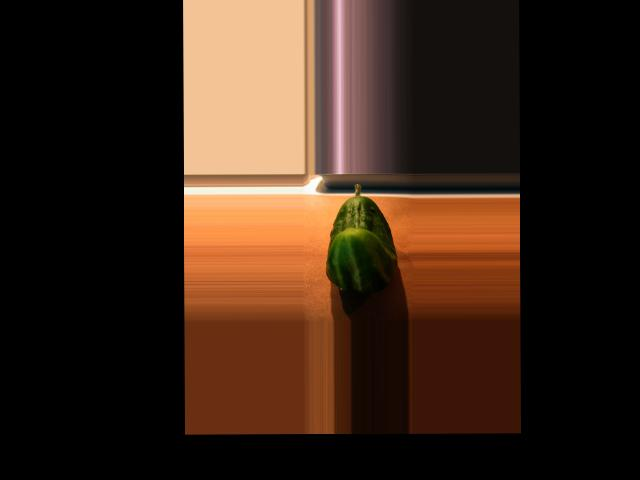cucumber: (324, 183, 396, 292)
